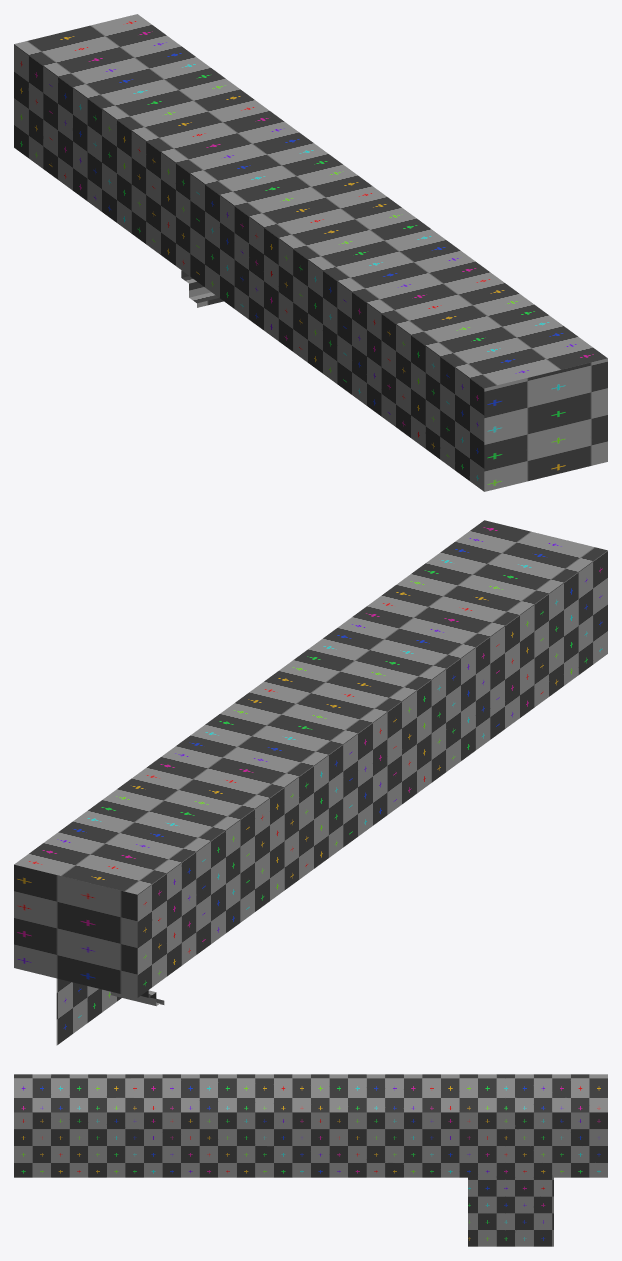
The model's file is scenario_prototype_interior_floor_03_right.fbx.
The picture shows the model from 3 angles, top to bottom: view 1: azimuth 30°, elevation 25°; view 2: azimuth 150°, elevation 25°; view 3: azimuth 270°, elevation 25°; orthographic projection. The views are drawn at different scales.
Parts seen in each view (by area): view 1: interior_floor03_right; view 2: interior_floor03_right; view 3: interior_floor03_right.
Boxes of the visible parts, box(x1,y1,x2,y2) form: interior_floor03_right: box(14, 14, 607, 491); interior_floor03_right: box(14, 520, 607, 1045); interior_floor03_right: box(14, 1074, 607, 1246).
Size of the model in its own units: 500 by 822 by 3297.
